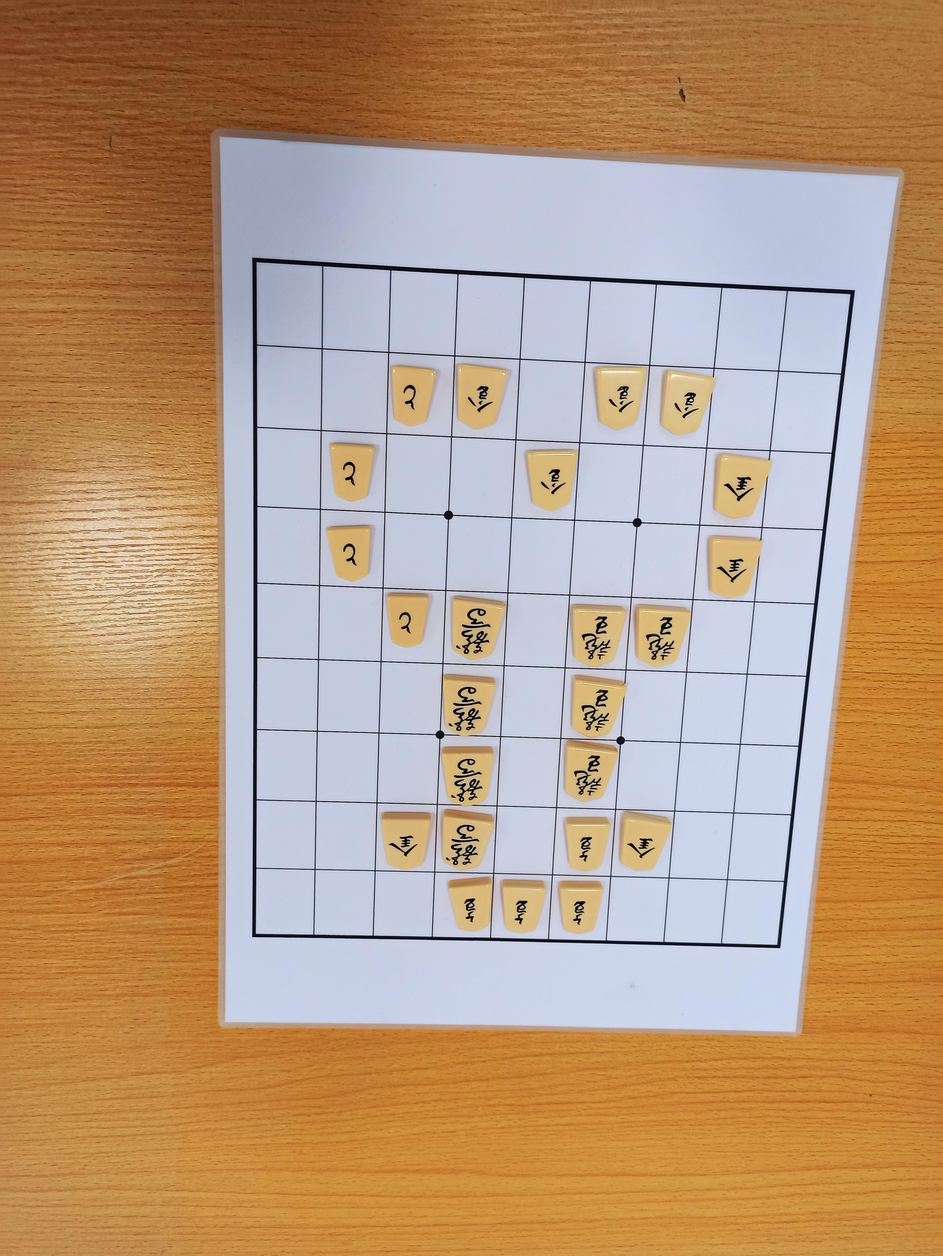board: (254, 260, 852, 947)
